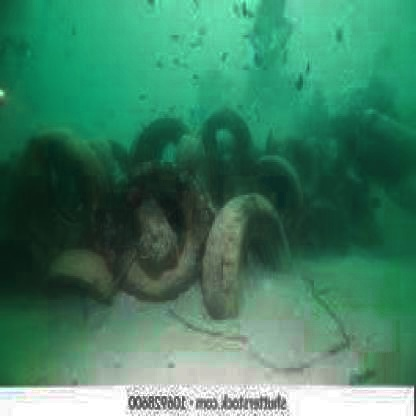tire: (99, 166, 210, 311), (192, 182, 294, 328), (29, 123, 112, 243), (132, 108, 212, 202), (244, 136, 312, 232), (46, 245, 118, 316), (196, 92, 253, 169)
